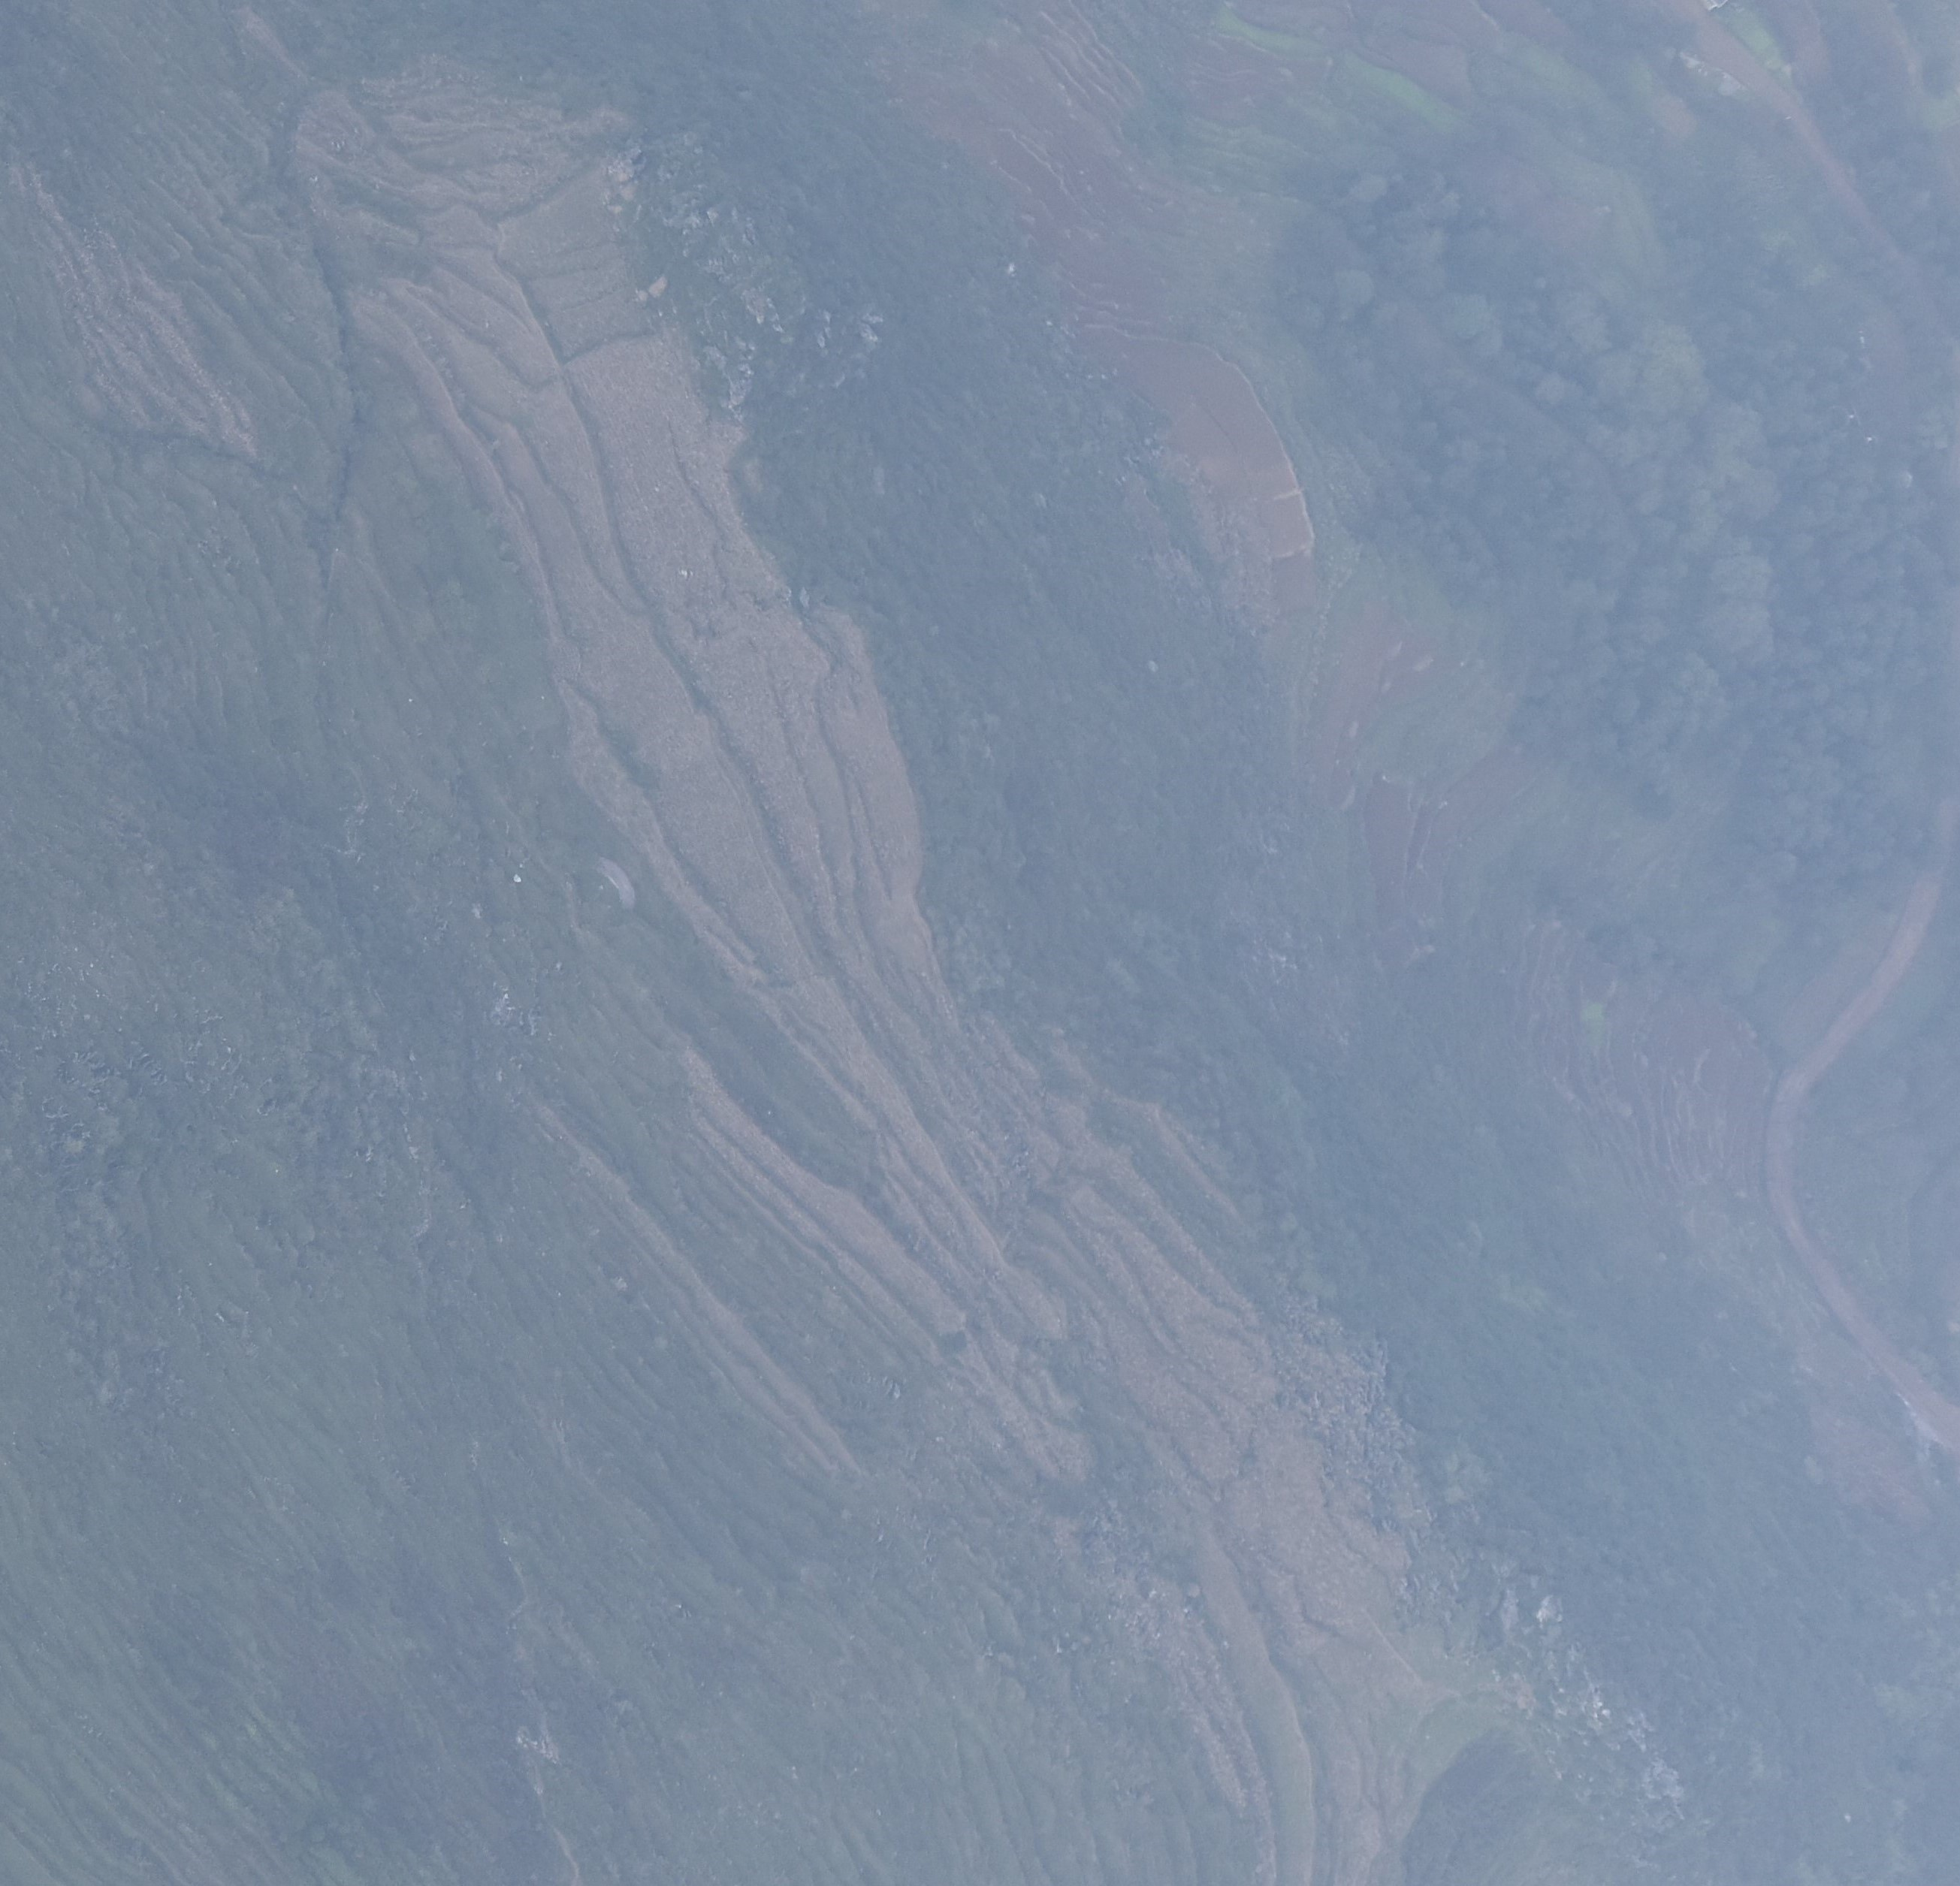landslide: (305, 69, 1566, 1880)
